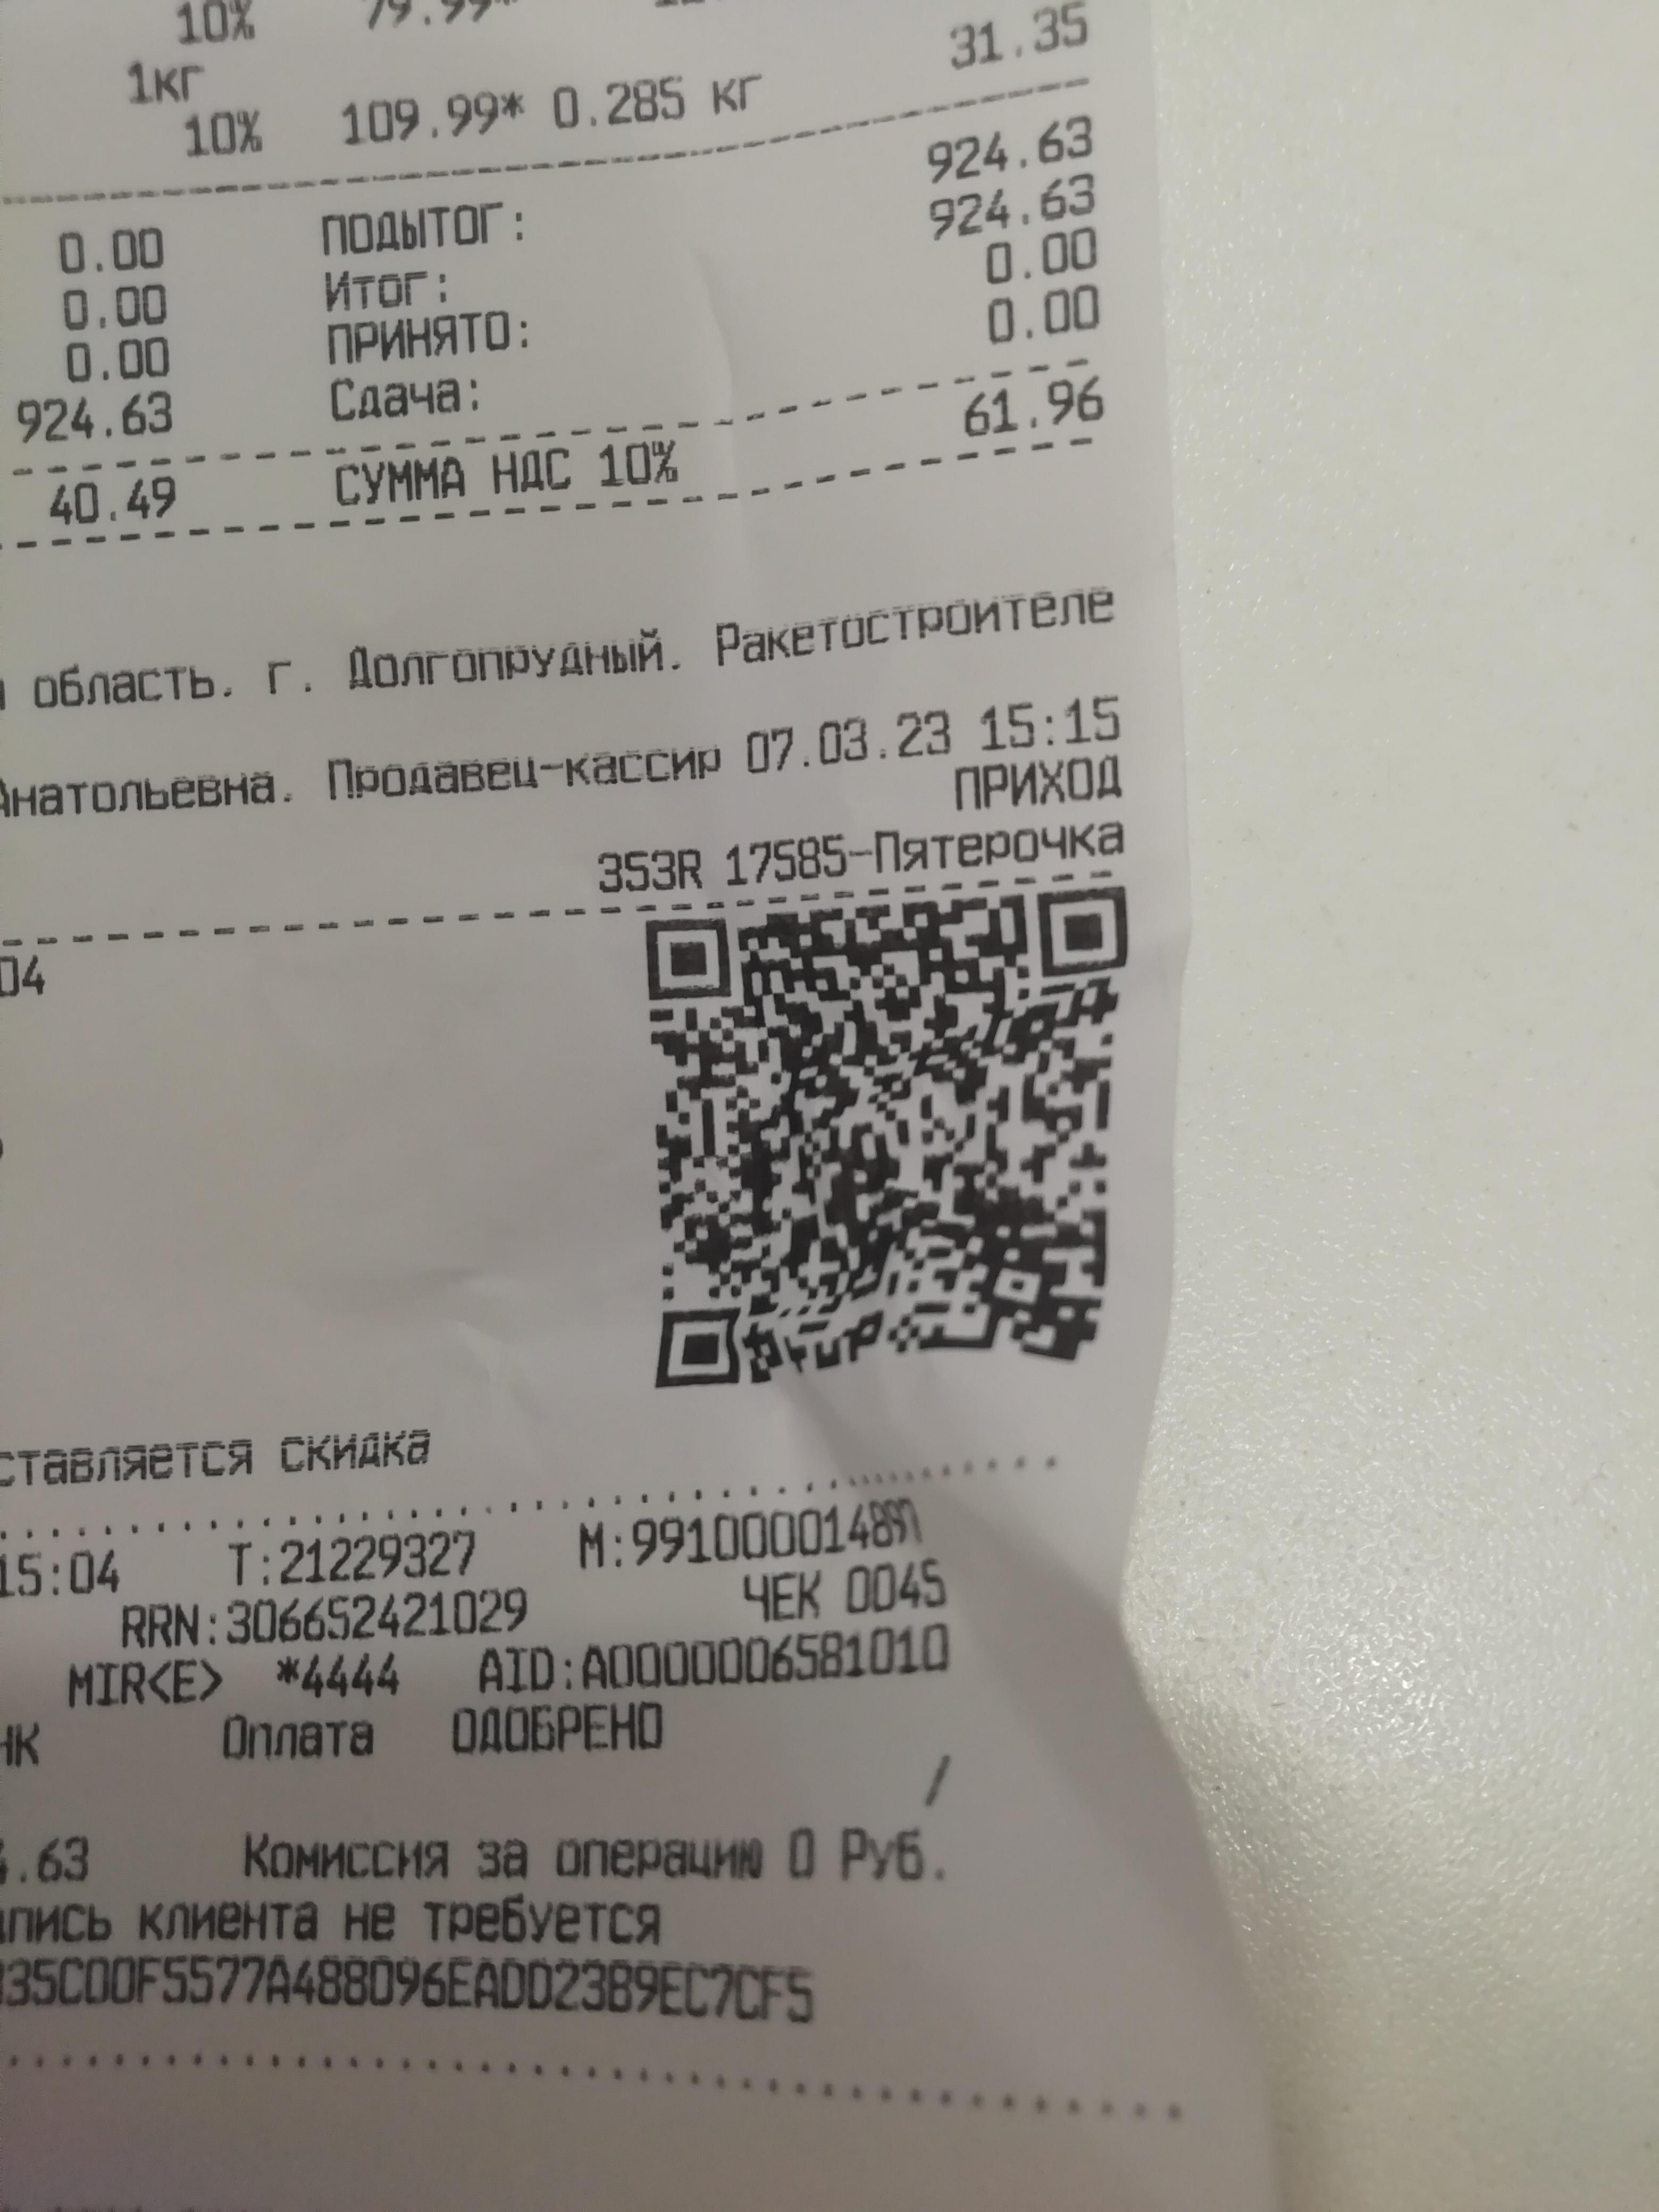qrcode: (647, 881, 1133, 1392)
